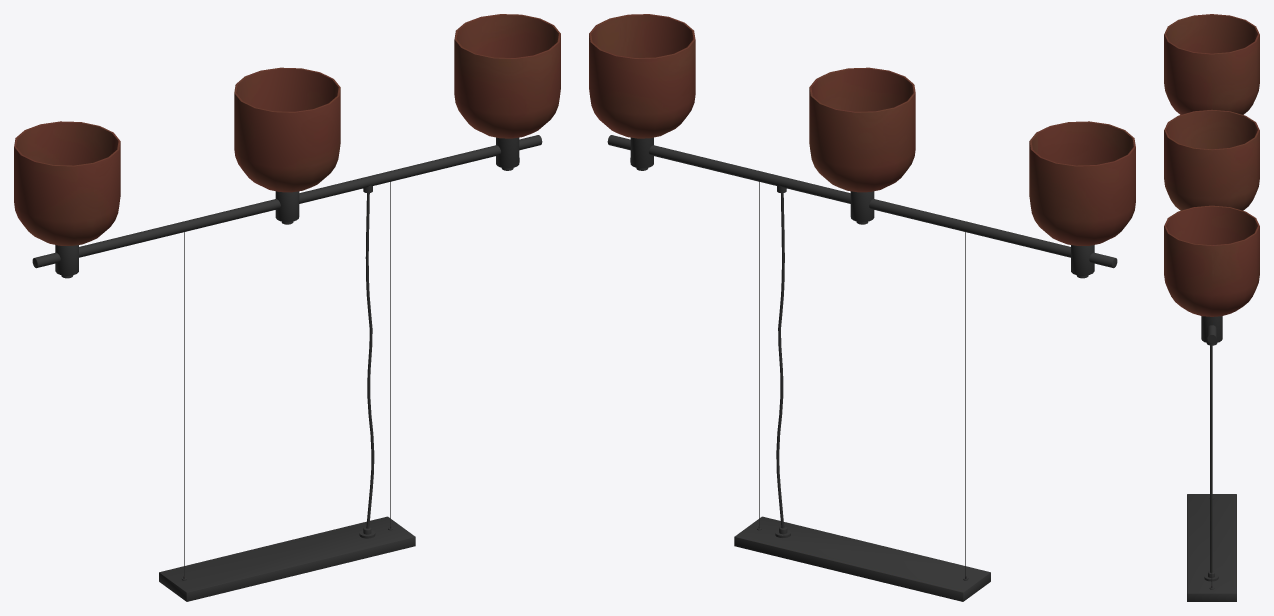
File: Ceiling_lamp_003.glb
The picture shows the model from 3 angles, left to right: view 1: azimuth 30°, elevation 25°; view 2: azimuth 150°, elevation 25°; view 3: azimuth 270°, elevation 25°; orthographic projection. The views are drawn at different scales.
Visible parts, largest first — view 1: Ceiling_lamp_003; view 2: Ceiling_lamp_003; view 3: Ceiling_lamp_003.
Part boxes in pixels (box(x1,y1,x2,y2)): Ceiling_lamp_003: box(14, 14, 560, 601); Ceiling_lamp_003: box(589, 14, 1135, 601); Ceiling_lamp_003: box(1164, 14, 1259, 601).
Bounding box in the file's own units: 1.17 × 0.9967 × 0.2047.
Materials: 1 (1 with a texture image).
